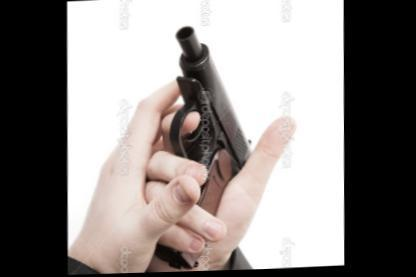pistol: (126, 17, 285, 272)
